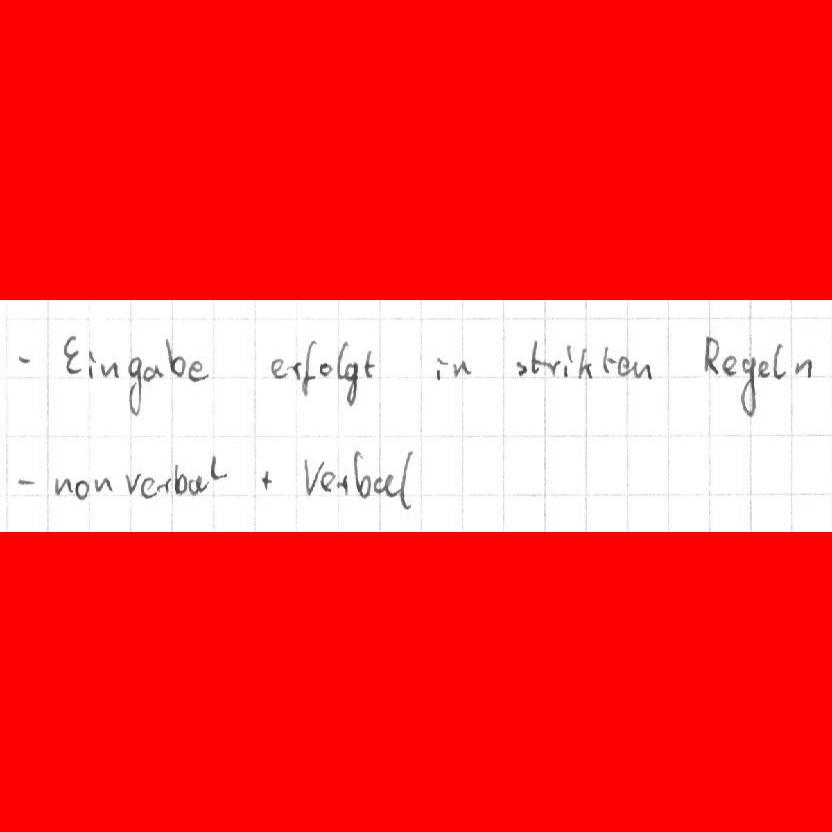Char: (397, 447, 415, 511), (352, 446, 373, 498), (739, 355, 756, 418), (164, 334, 186, 380), (61, 331, 85, 373), (300, 337, 317, 396), (700, 333, 721, 380), (301, 456, 325, 496), (128, 352, 142, 416), (342, 360, 359, 406), (207, 450, 231, 481), (576, 346, 596, 381), (334, 339, 348, 384), (771, 342, 788, 379), (529, 338, 545, 377), (49, 473, 75, 497), (186, 472, 210, 497), (600, 342, 617, 376), (187, 356, 210, 381), (266, 354, 287, 381), (171, 460, 187, 495), (629, 356, 651, 381), (138, 474, 160, 499), (141, 360, 166, 381), (98, 359, 122, 380), (91, 473, 115, 494), (372, 472, 392, 496), (363, 347, 377, 381), (72, 476, 91, 501), (450, 358, 472, 379), (719, 352, 738, 376), (562, 342, 575, 377), (284, 358, 303, 381), (616, 350, 631, 379), (543, 356, 563, 377), (794, 357, 815, 377), (85, 347, 98, 379), (124, 470, 142, 493), (315, 359, 335, 379), (434, 354, 449, 380), (154, 475, 174, 494), (258, 468, 275, 490), (320, 469, 336, 492), (513, 355, 530, 376), (755, 357, 770, 379), (334, 473, 350, 492), (16, 475, 41, 487), (19, 354, 32, 364)
